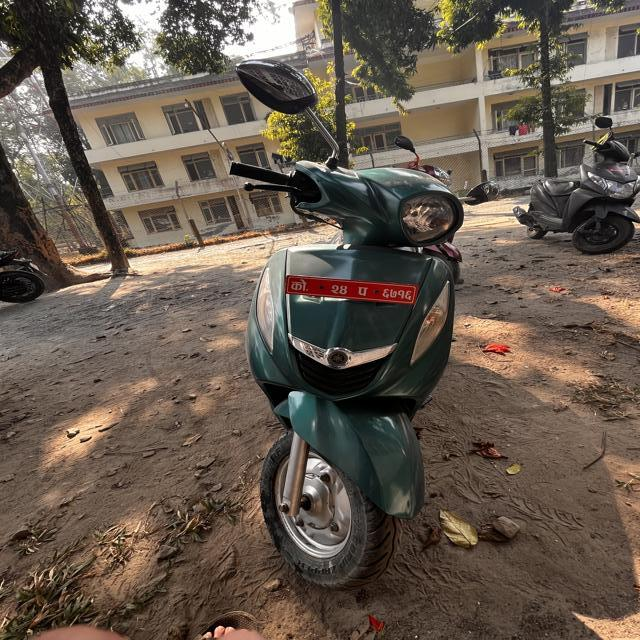license_plate: (256, 268, 434, 314)
